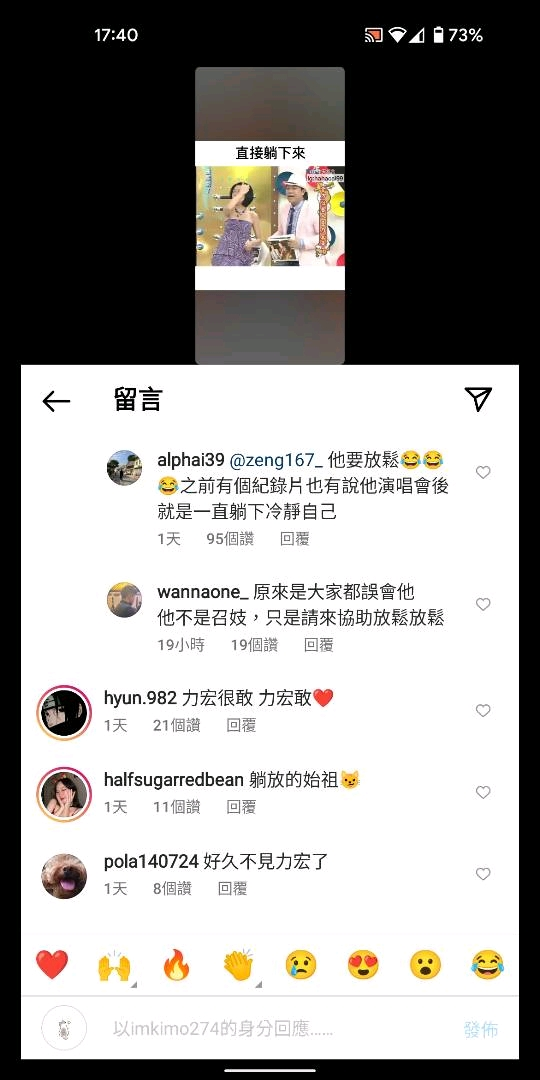back: (35, 384, 78, 420)
